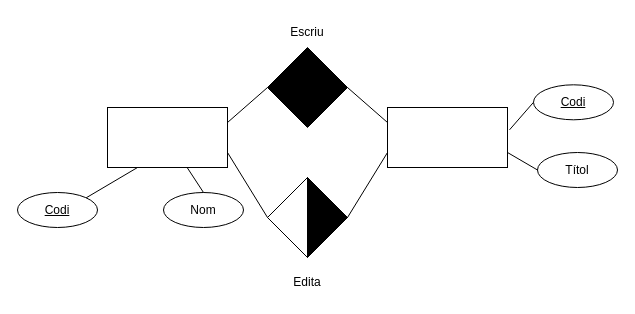
The diagram is 635 pixels wide and 314 high, and some of its shapes have lost their labels. The centre of each missing label's shape, as x and y in pixels:
"AUTOR" goes at pixel 167 137.
"LLIBRE" goes at pixel 447 137.
